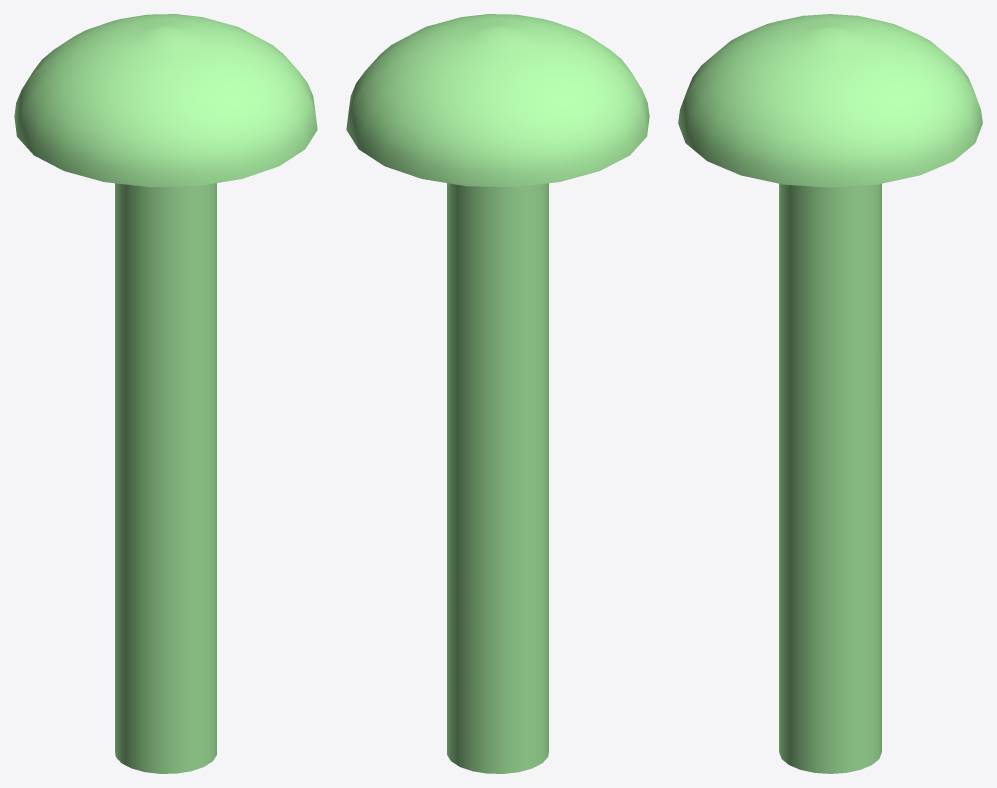
Rendered from pin.fbx.
3 views of the same model, side by side, from view 1: azimuth 30°, elevation 25°; view 2: azimuth 150°, elevation 25°; view 3: azimuth 270°, elevation 25° (orthographic).
Parts seen in each view (by area): view 1: pCylinder1, pSphere1; view 2: pCylinder1, pSphere1; view 3: pCylinder1, pSphere1.
Boxes of the visible parts, x1,y1,x2,y2 form: pCylinder1: (115,183,216,773); pSphere1: (14,14,317,187); pCylinder1: (447,183,548,773); pSphere1: (346,14,649,187); pCylinder1: (779,183,881,773); pSphere1: (678,14,982,187).
Bounding box in the file's own units: 35.18 × 92.07 × 35.18.
